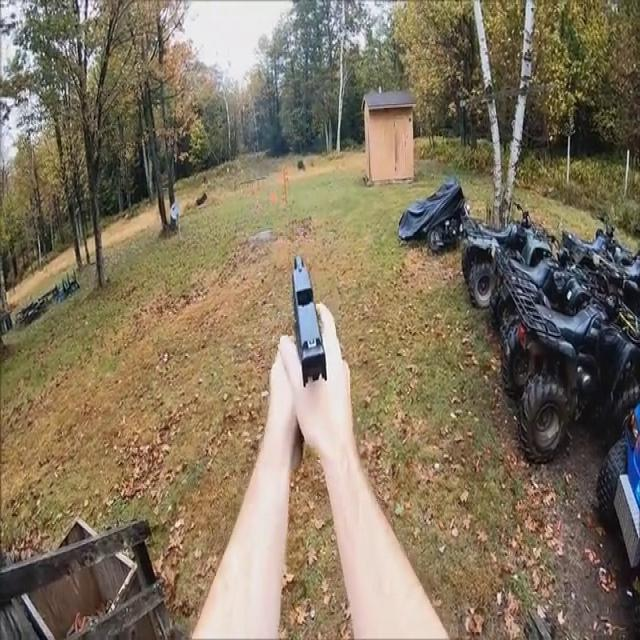gun-knife-thesis - v11 Yolov5 augmented: (248, 251, 375, 441)
